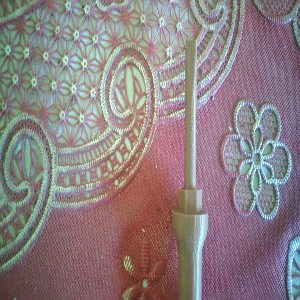obeng: (171, 39, 209, 300)
